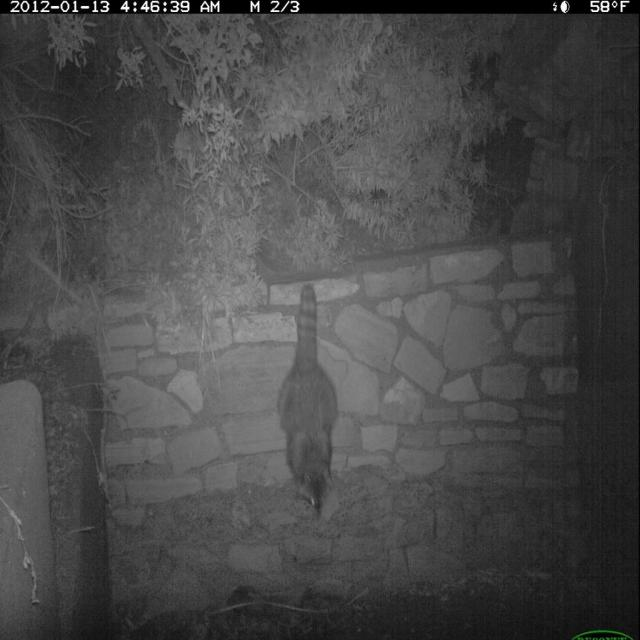raccoon: (273, 279, 358, 527)
